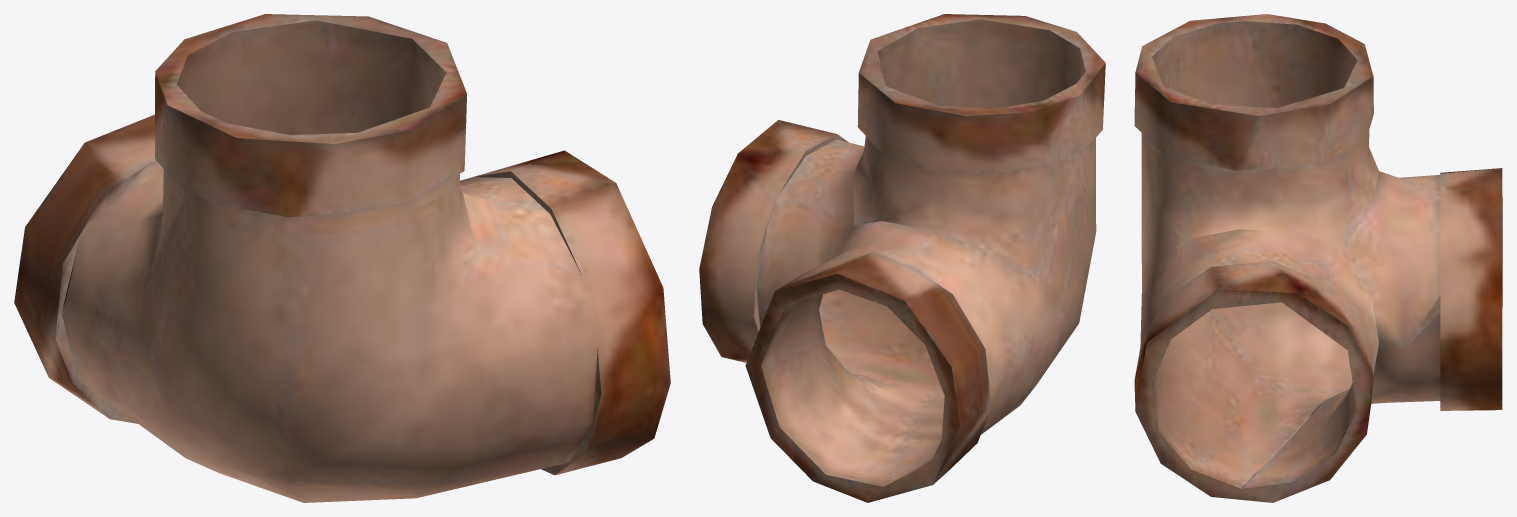
Rendered from small_copper_pipe_18.glb.
3 renders of one model, left to right at view 1: azimuth 30°, elevation 25°; view 2: azimuth 150°, elevation 25°; view 3: azimuth 270°, elevation 25°, orthographic. The views are drawn at different scales.
Visible parts, largest first — view 1: small_copper_pipe_18; view 2: small_copper_pipe_18; view 3: small_copper_pipe_18.
Part boxes in pixels (bbox=[...]): small_copper_pipe_18: bbox=[14, 14, 670, 502]; small_copper_pipe_18: bbox=[699, 14, 1105, 502]; small_copper_pipe_18: bbox=[1134, 14, 1502, 502].
Size of what is drawn, in the model's own units: 0.0327 by 0.0327 by 0.0326.
Materials: 1 (1 with a texture image).
